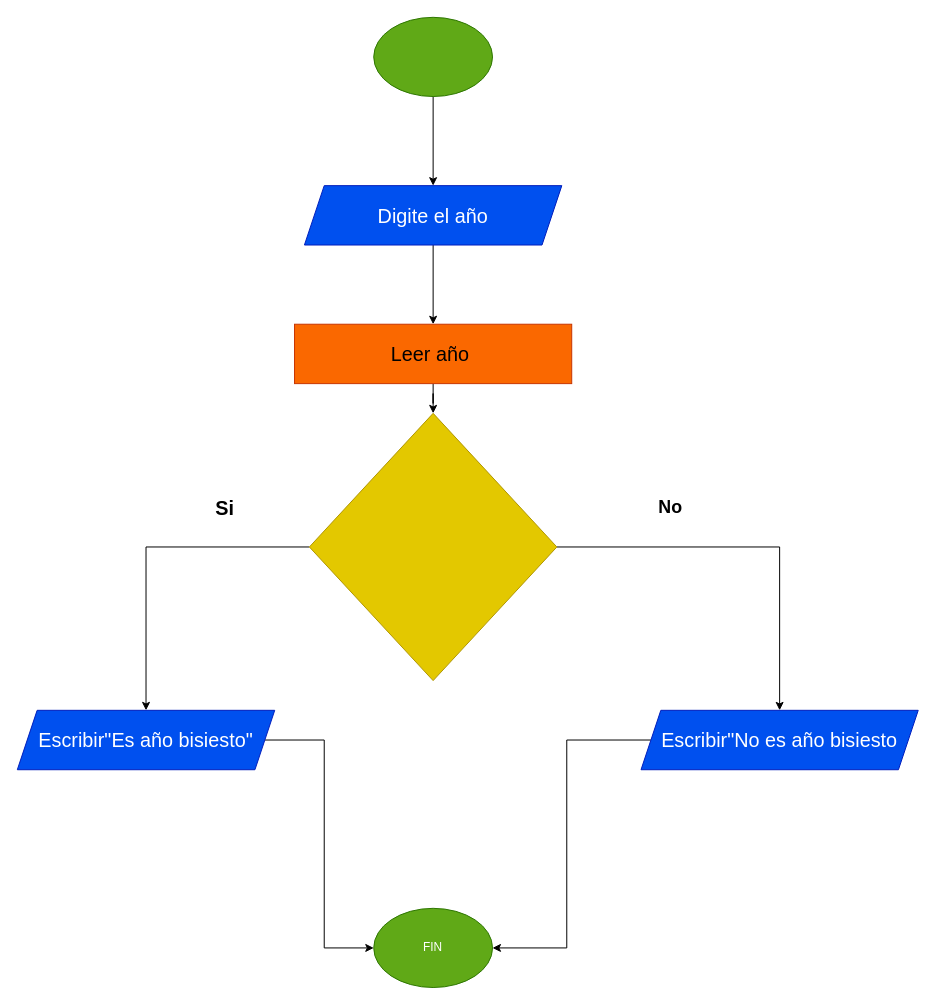
The diagram is 936 pixels wide and 1005 high, and some of its shapes have lost their labels. The shapes that lost their labels are listed below. From the top down, each one's centre as x and y in pixels, then its label:
At (433,56): "INICIO".
At (432,546): "año MOD 4 = 0 Y (año MOD 100 ≠ 0 O año MOD400=0)".
